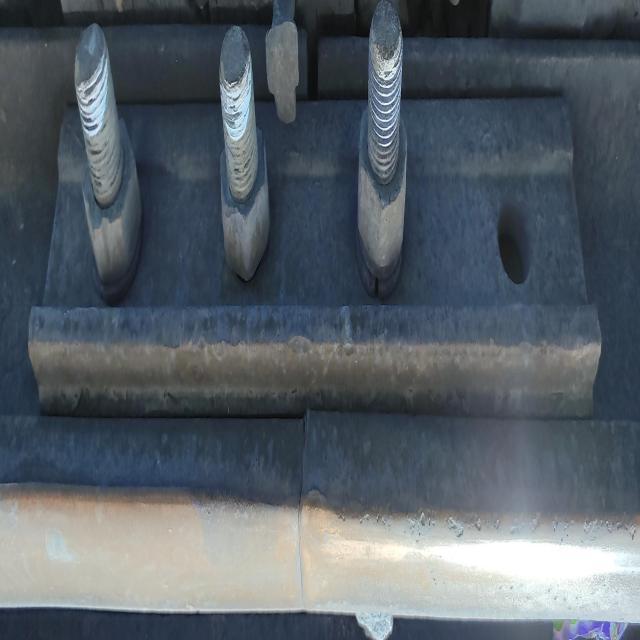Defective Joint: (31, 3, 598, 431)
